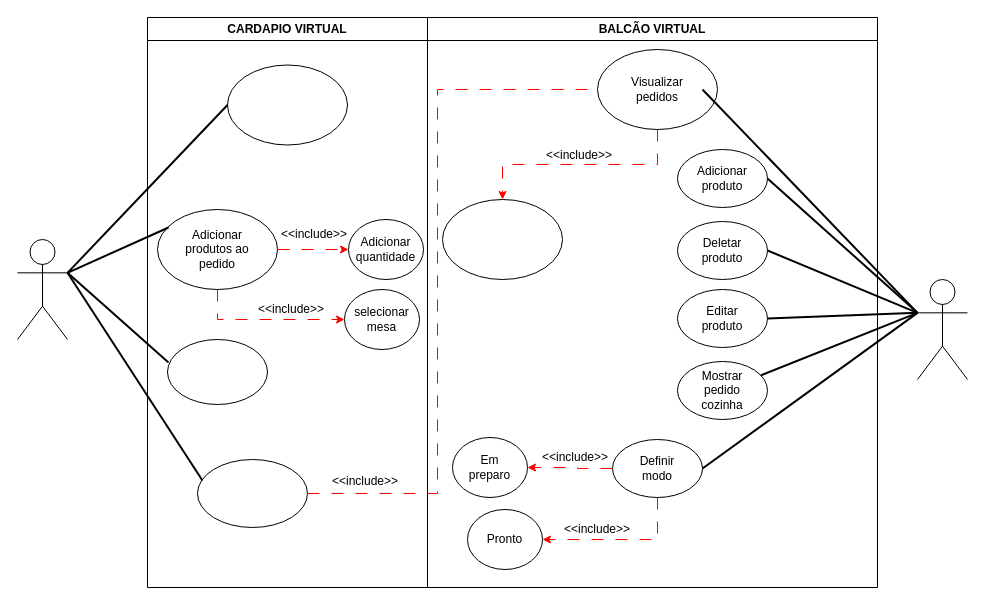
Image size: 987x605. Some labels were removed from this diagram. The shapes that lost their labels are listed below. From the top down, each one's centre as x and y in pixels, then its label:
(x=287, y=104): Ver opções de produtos
(x=502, y=239): Editar pedido
(x=42, y=289): Cliente
(x=942, y=329): Balconista
(x=217, y=371): Visualizar lista de pedidos
(x=252, y=493): Enviar pedido para o balcão
